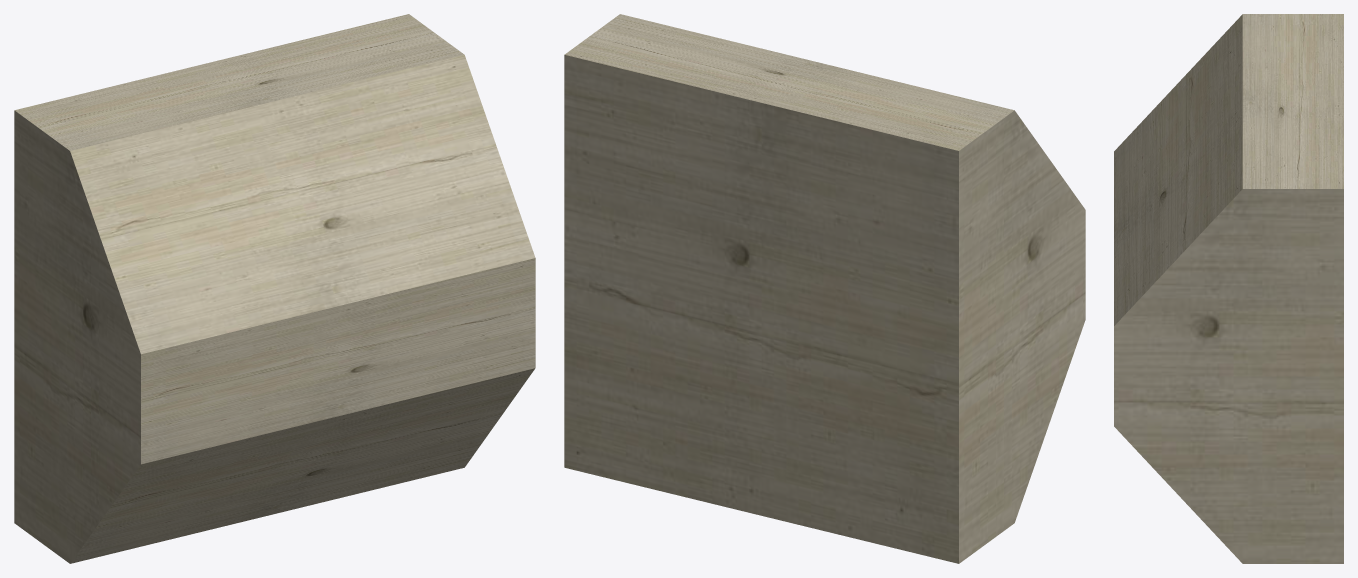
Rendered from roof_shielded.glb.
3 renders of one model, left to right at view 1: azimuth 30°, elevation 25°; view 2: azimuth 150°, elevation 25°; view 3: azimuth 270°, elevation 25°, orthographic. The views are drawn at different scales.
Visible parts, largest first — view 1: roof; view 2: roof; view 3: roof.
Boxes of the visible parts, x1,y1,x2,y2 form: roof: (14, 14, 535, 563); roof: (564, 14, 1085, 563); roof: (1114, 14, 1343, 563).
Size of the model in its own units: 0.9 by 0.9 by 0.5.
1 material, 1 textured.
